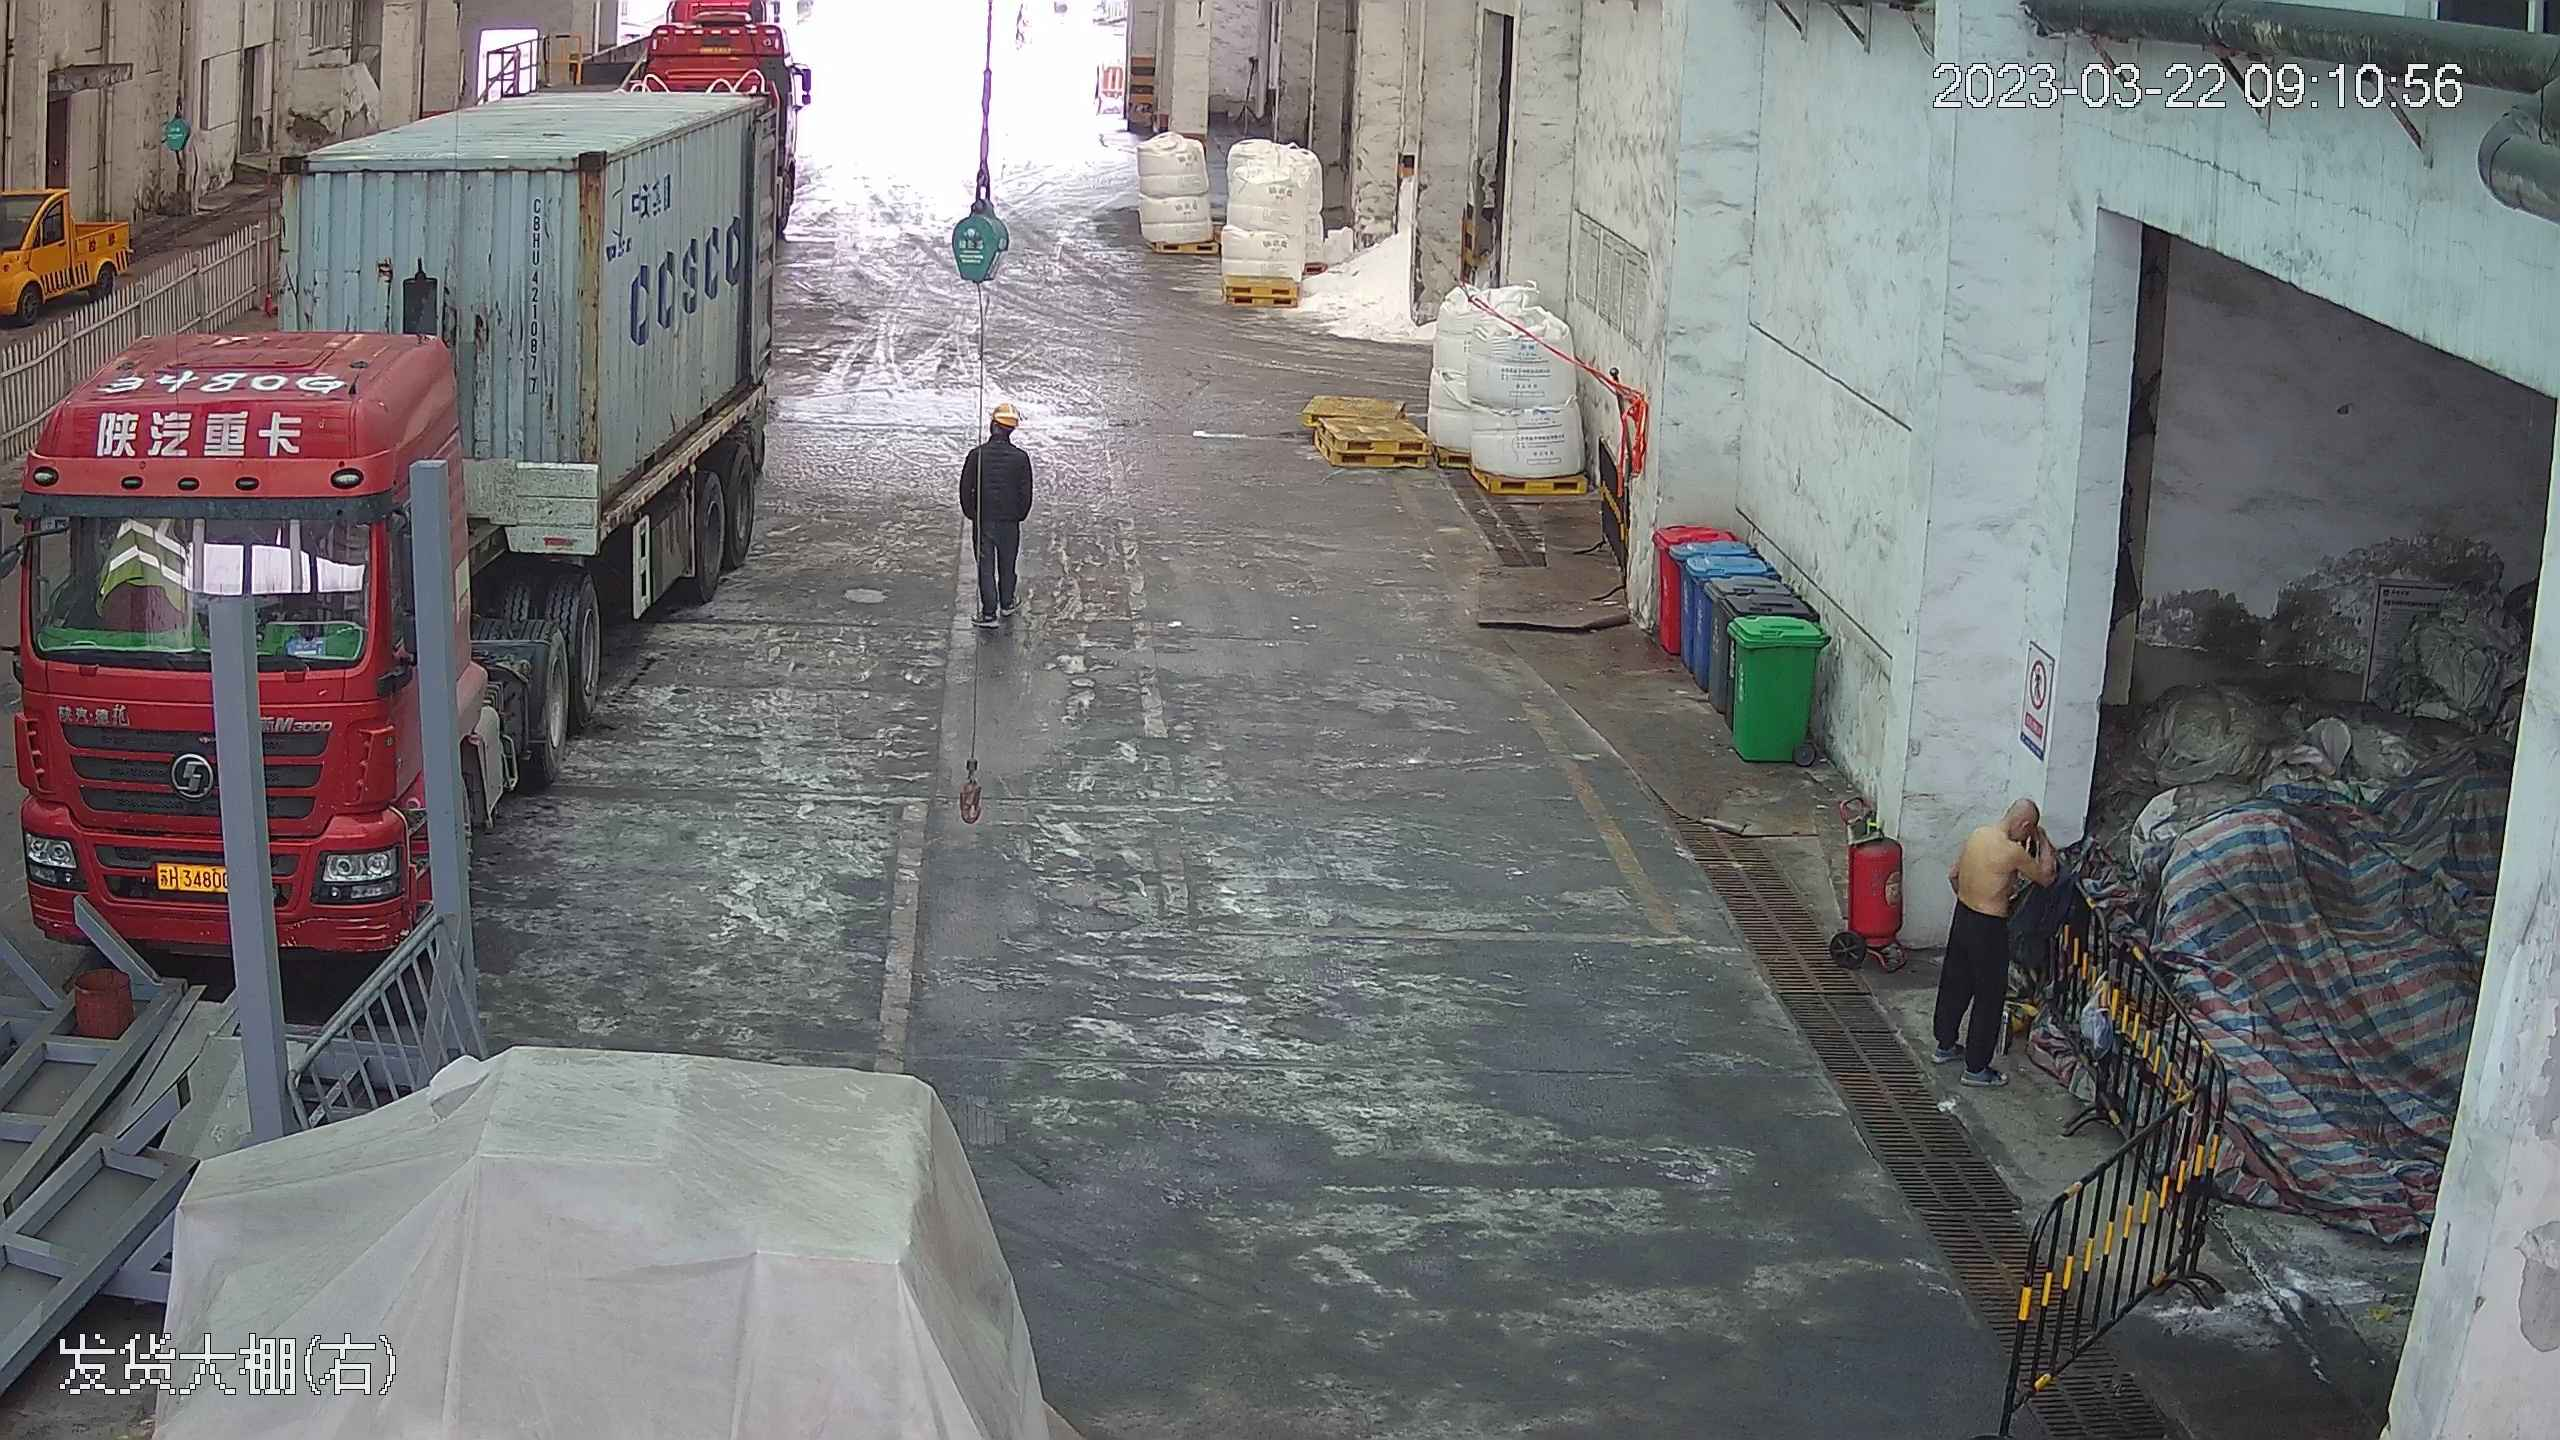head: (1953, 799, 2051, 882), (965, 399, 1033, 471)
helmet: (990, 400, 1022, 426)
people: (1937, 797, 2074, 1084), (957, 394, 1041, 632)
truck: (24, 16, 803, 972)
